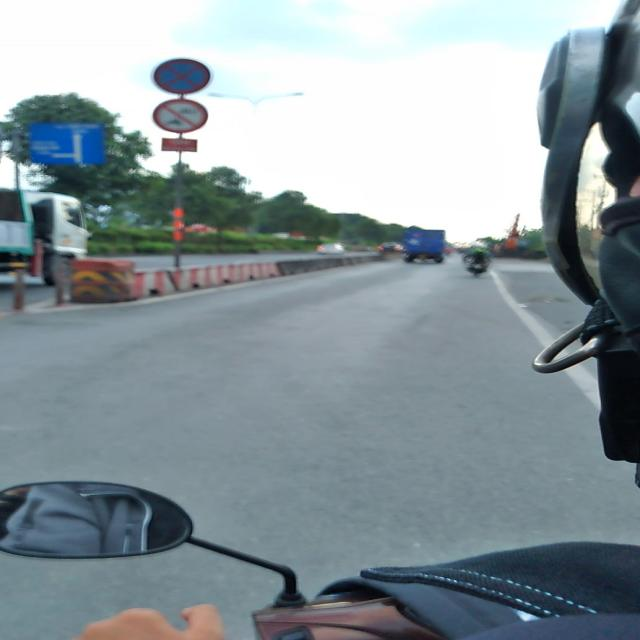Cam con lai: (152, 98, 211, 134)
Cam dung va do: (153, 59, 211, 95)
